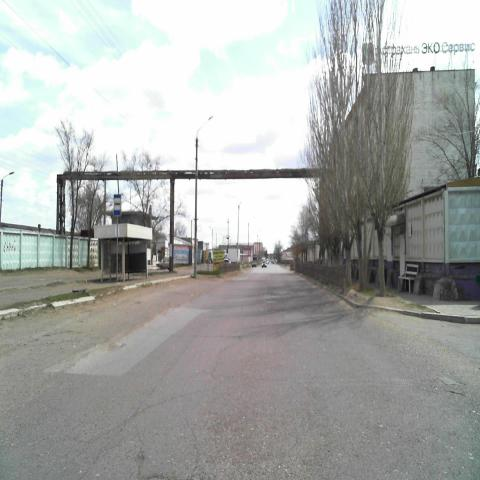5_16: (114, 193, 121, 216)
